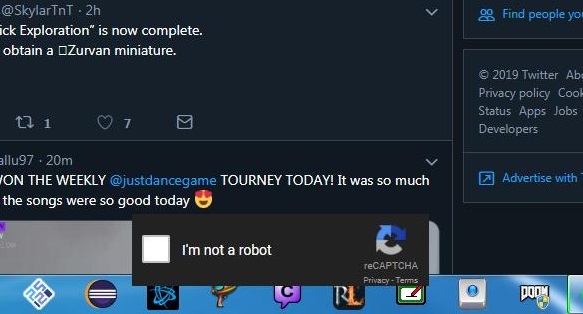captcha: (142, 234, 273, 263)
